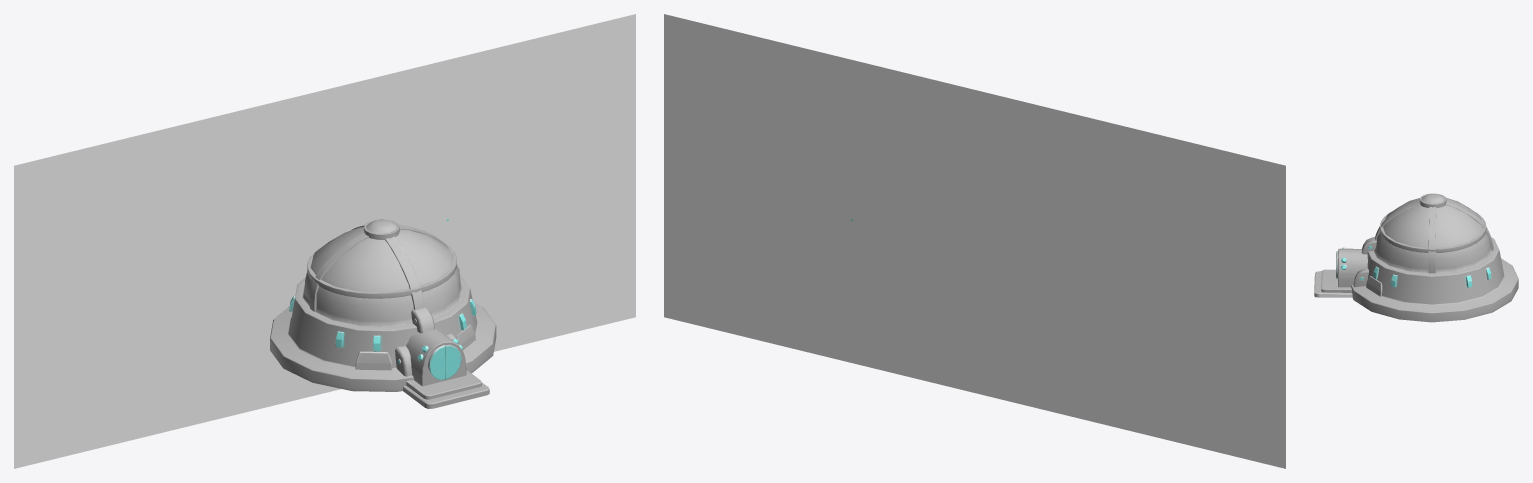
The model's file is Farm.fbx.
3 renders of one model, left to right at view 1: azimuth 30°, elevation 25°; view 2: azimuth 150°, elevation 25°; view 3: azimuth 270°, elevation 25°, orthographic. The views are drawn at different scales.
Visible parts, largest first — view 1: Node #0, node_id29; view 2: Node #0; view 3: node_id29.
Part boxes in pixels (left/top/right/bottom): Node #0: left=14, top=14, right=635, bottom=468; node_id29: left=270, top=219, right=496, bottom=408; Node #0: left=664, top=14, right=1285, bottom=468; node_id29: left=1314, top=193, right=1518, bottom=322.
Bounding box in the file's own units: 1.35 × 0.629 × 0.5129.
2 materials, 2 textured.
